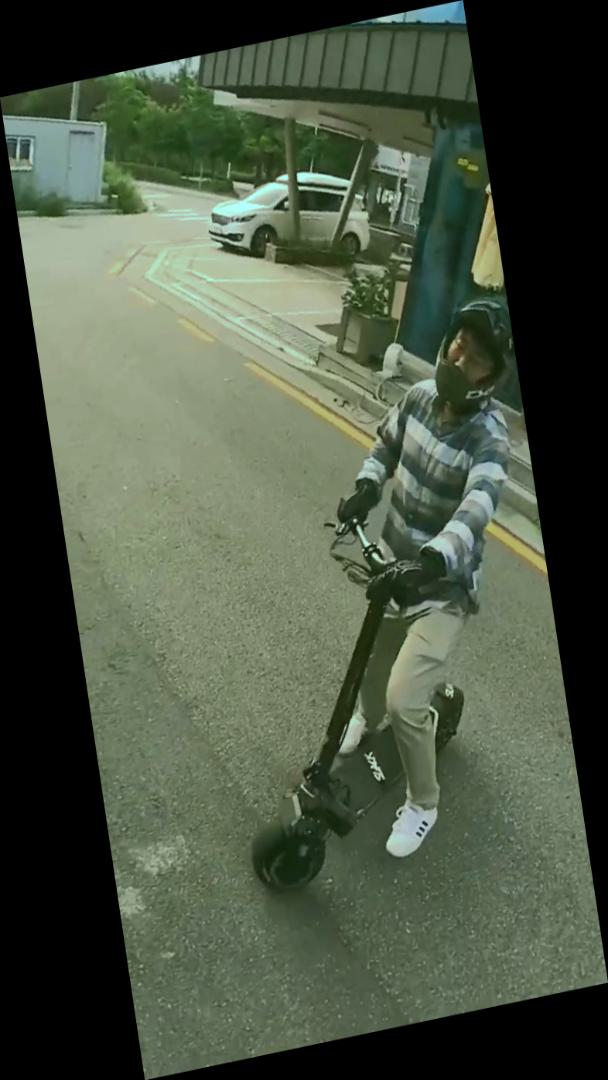helmet: (178, 290, 586, 903)
